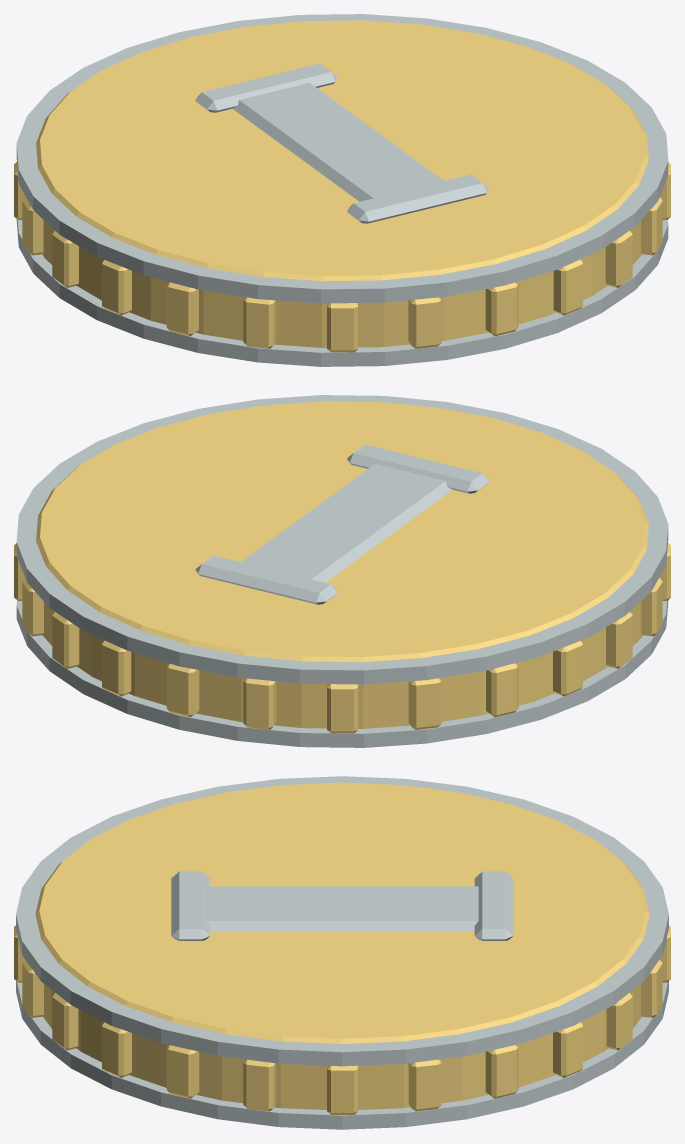
Rendered from Supplies-Coin.fbx.
3 views of the same model, one above another, from view 1: azimuth 30°, elevation 25°; view 2: azimuth 150°, elevation 25°; view 3: azimuth 270°, elevation 25° (orthographic).
Parts seen in each view (by area): view 1: Coin Blank, Stamped Rim.001, Milled Ridge Mesh, Stamped Rim, Raised Mint Mark, Mint Mark Serif, Mint Mark Serif.001; view 2: Coin Blank, Stamped Rim.001, Milled Ridge Mesh, Stamped Rim, Raised Mint Mark, Mint Mark Serif.001, Mint Mark Serif; view 3: Coin Blank, Stamped Rim.001, Milled Ridge Mesh, Raised Mint Mark, Stamped Rim, Mint Mark Serif, Mint Mark Serif.001.
Part boxes in pixels (left/top/right/bottom): Coin Blank: left=36, top=20, right=648, bottom=347; Stamped Rim.001: left=16, top=14, right=668, bottom=303; Milled Ridge Mesh: left=14, top=162, right=670, bottom=352; Stamped Rim: left=16, top=219, right=668, bottom=366; Raised Mint Mark: left=232, top=82, right=443, bottom=201; Mint Mark Serif: left=347, top=174, right=489, bottom=223; Mint Mark Serif.001: left=195, top=63, right=337, bottom=112; Coin Blank: left=36, top=401, right=648, bottom=728; Stamped Rim.001: left=16, top=395, right=668, bottom=684; Milled Ridge Mesh: left=14, top=543, right=670, bottom=733; Stamped Rim: left=16, top=600, right=668, bottom=747; Raised Mint Mark: left=241, top=463, right=452, bottom=582; Mint Mark Serif.001: left=195, top=555, right=337, bottom=604; Mint Mark Serif: left=347, top=444, right=489, bottom=493; Coin Blank: left=35, top=782, right=649, bottom=1109; Stamped Rim.001: left=16, top=776, right=668, bottom=1066; Milled Ridge Mesh: left=14, top=925, right=670, bottom=1114; Raised Mint Mark: left=206, top=886, right=478, bottom=931; Stamped Rim: left=16, top=981, right=668, bottom=1129; Mint Mark Serif: left=171, top=871, right=210, bottom=940; Mint Mark Serif.001: left=474, top=871, right=513, bottom=940.
Bounding box in the file's own units: 0.169 × 0.027 × 0.169.
